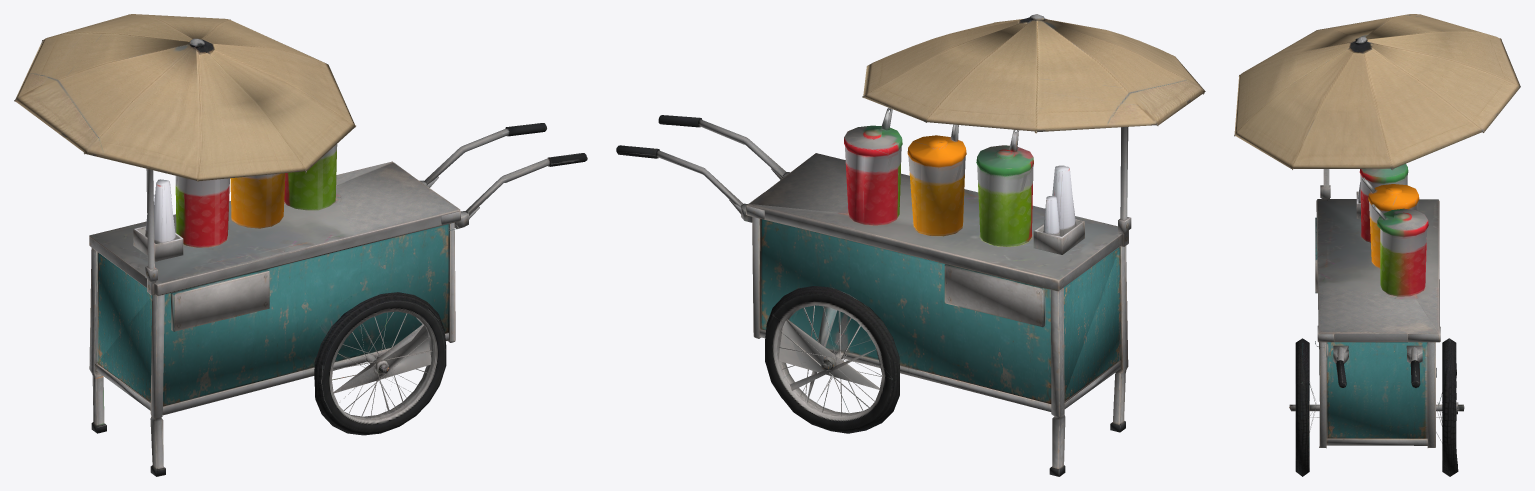
The model's file is Rainbow Refreshment Cart.glb.
3 renders of one model, left to right at view 1: azimuth 30°, elevation 25°; view 2: azimuth 150°, elevation 25°; view 3: azimuth 270°, elevation 25°, orthographic. The views are drawn at different scales.
Size of the model in its own units: 0.9541 by 0.7007 by 0.498.
Materials: 1 (1 with a texture image).
